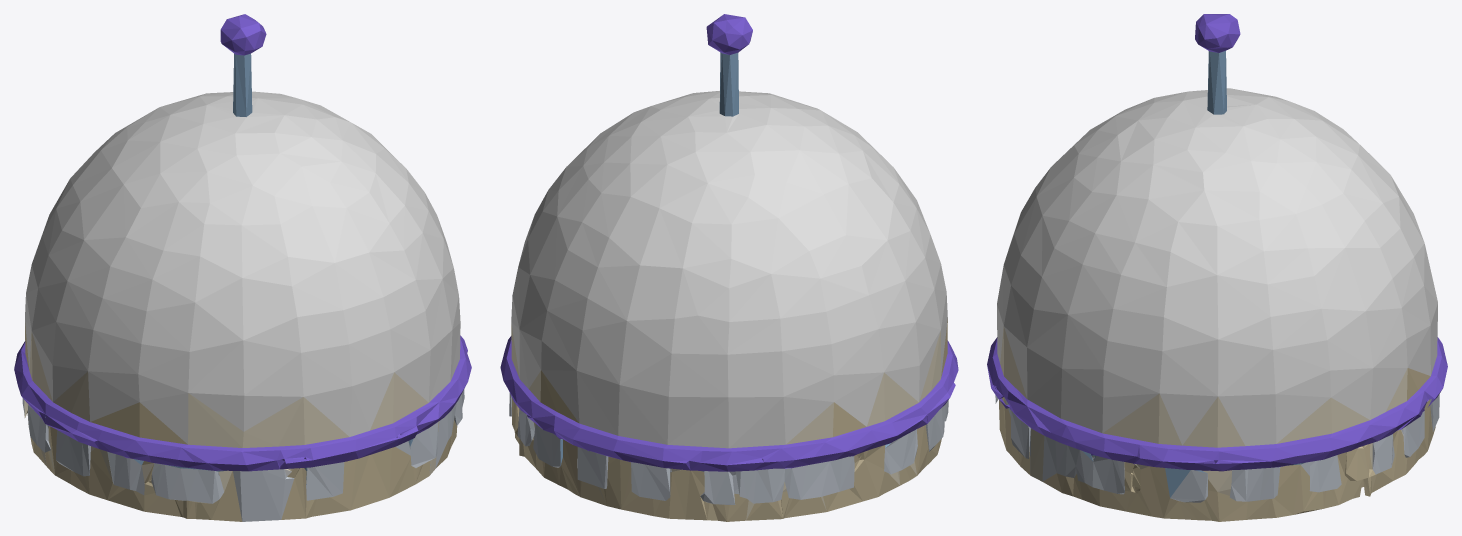
The model's file is hall-hunyuan-B.glb.
3 views of the same model, side by side, from view 1: azimuth 30°, elevation 25°; view 2: azimuth 150°, elevation 25°; view 3: azimuth 270°, elevation 25° (orthographic).
Visible parts, largest first — view 1: hall; view 2: hall; view 3: hall.
Part boxes in pixels (<box>): hall: <box>14,14,471,521</box>; hall: <box>500,14,958,521</box>; hall: <box>987,14,1447,521</box>.
Size of the model in its own units: 2.1 by 2.1 by 2.11.
